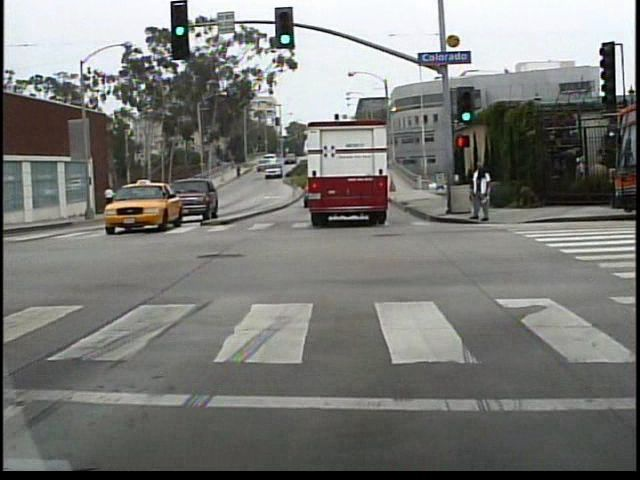person: (468, 163, 493, 223), (105, 184, 121, 216)
